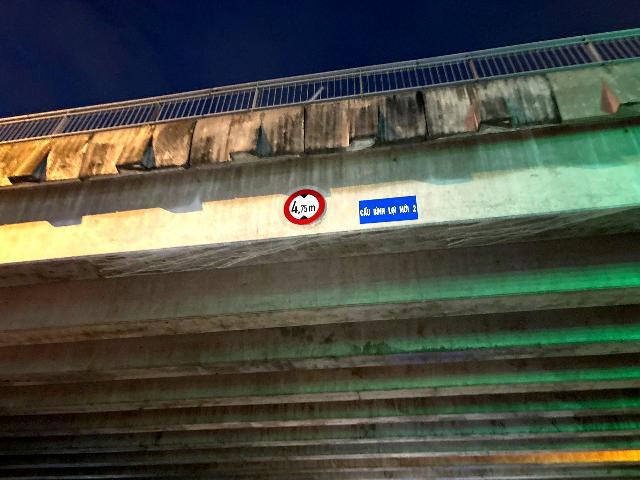han-che-chieu-cao: (283, 189, 324, 225)
